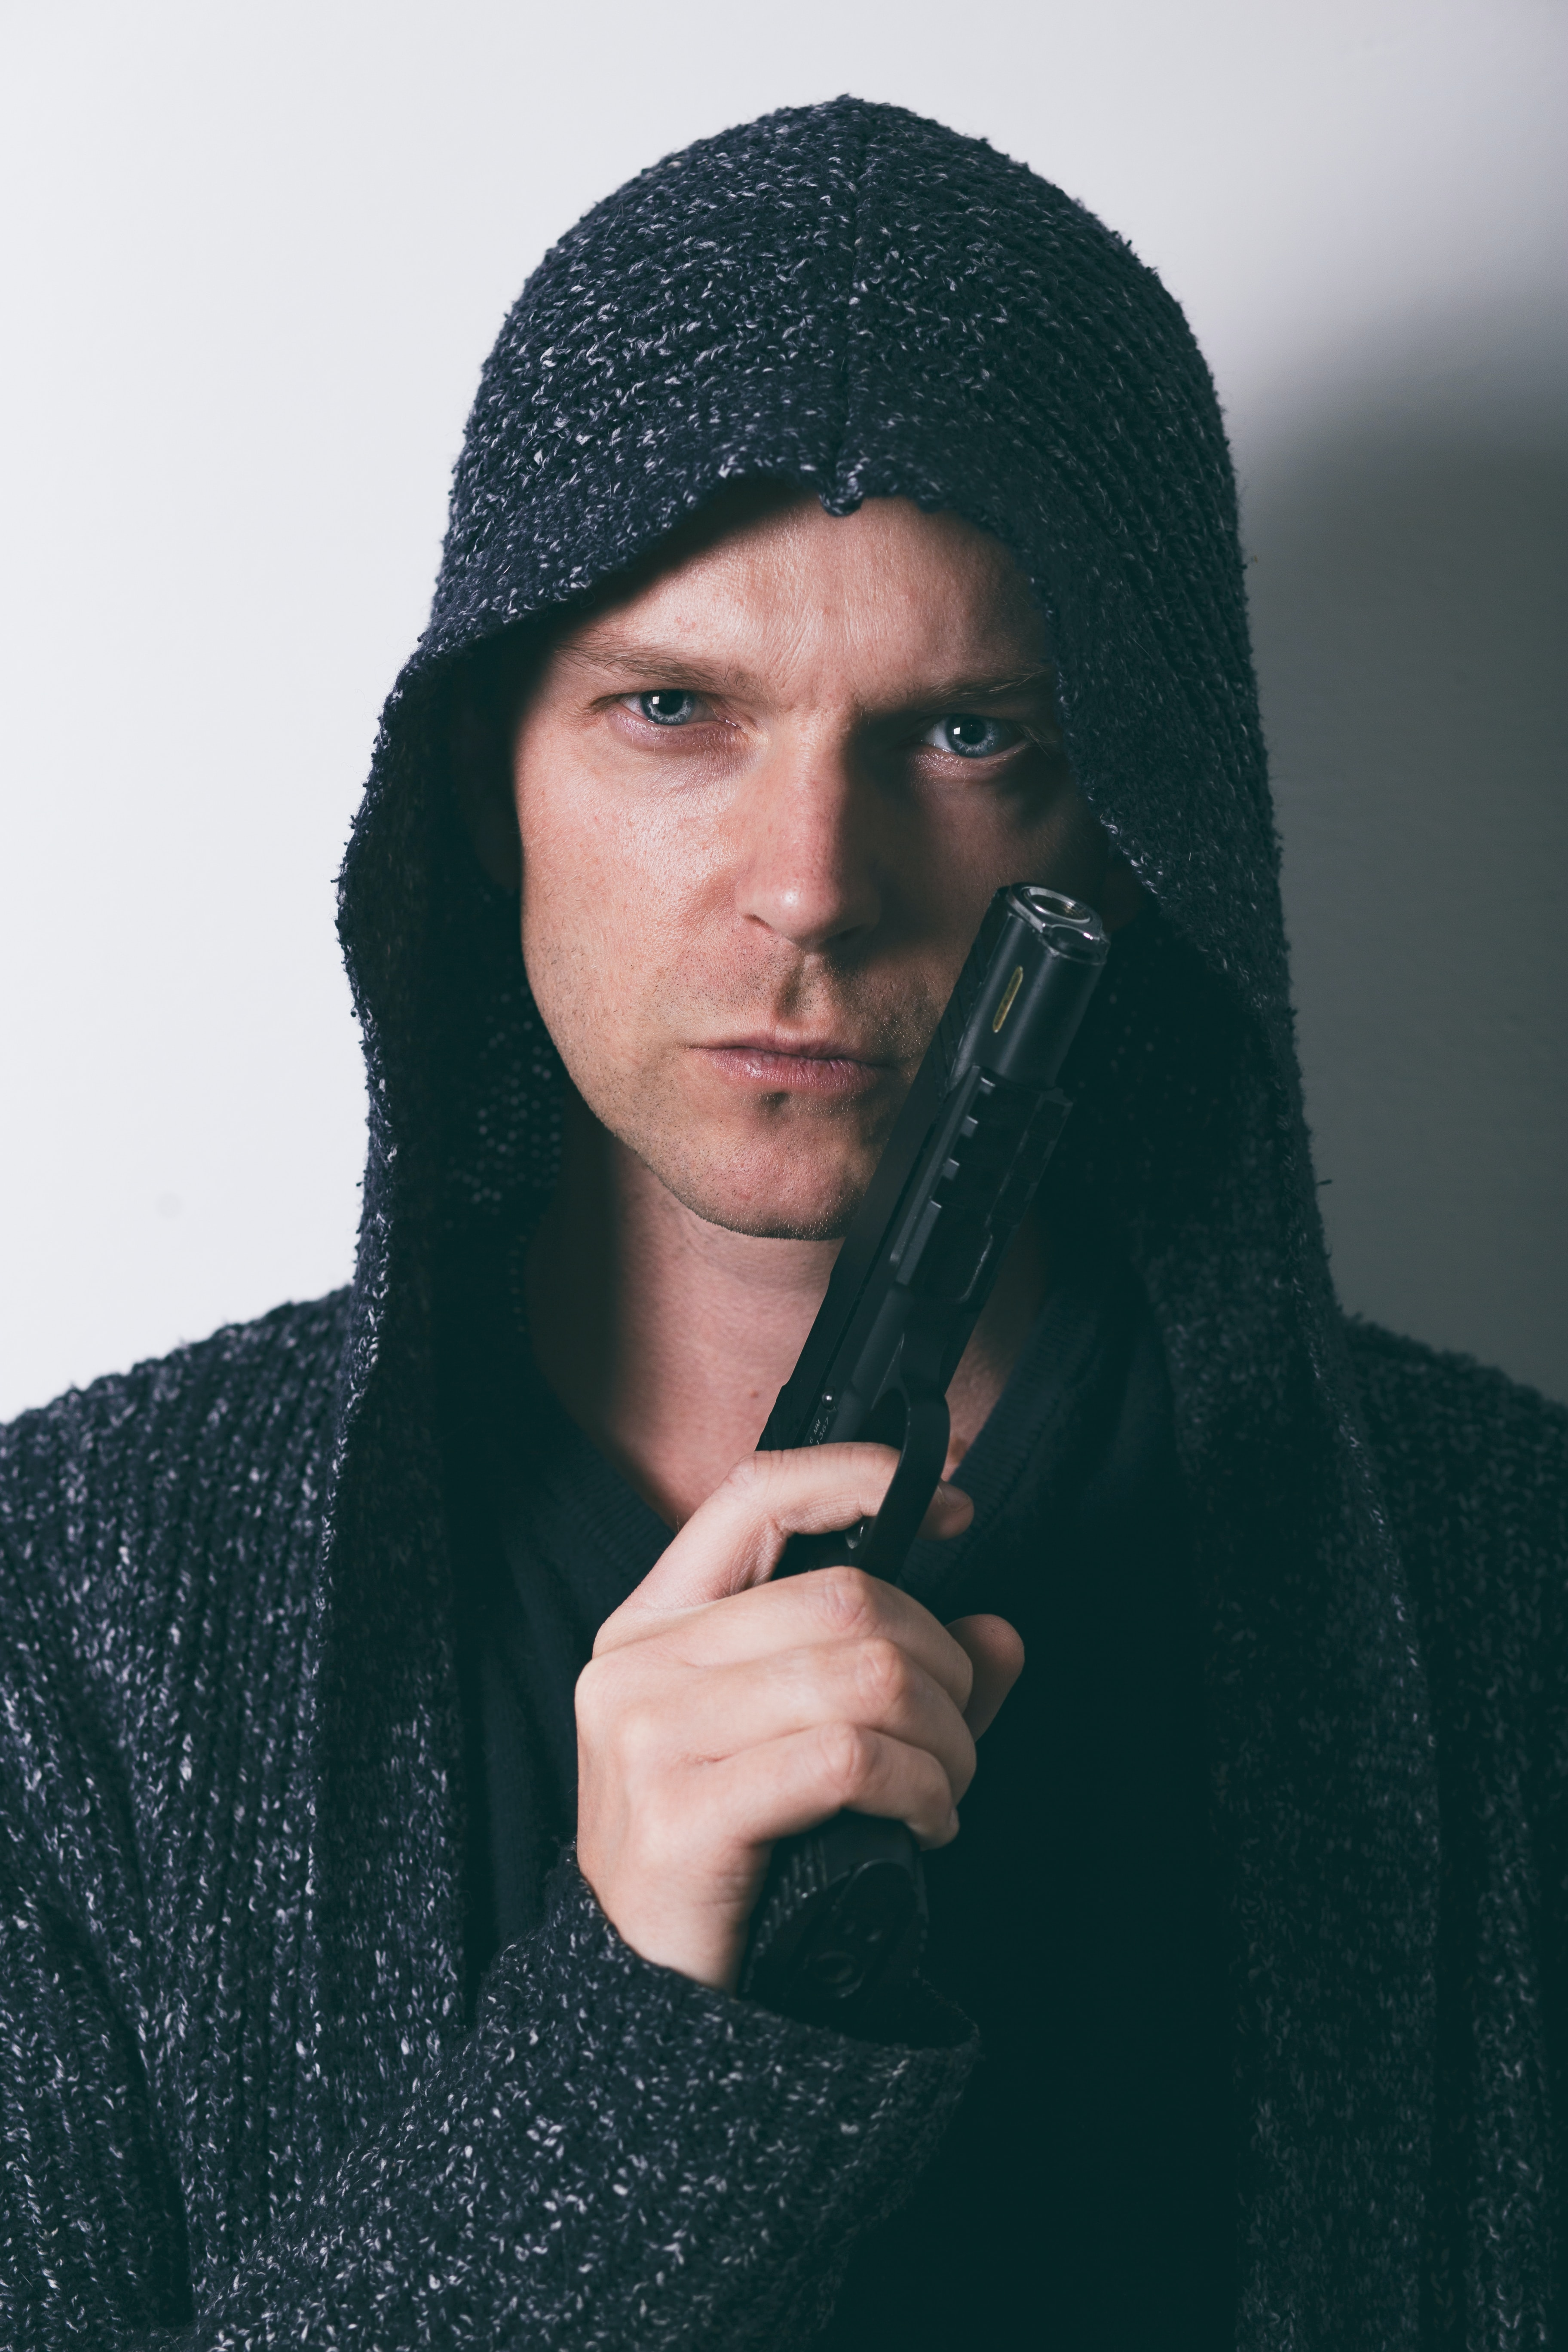gun: (727, 873, 1114, 2023)
person: (9, 104, 1566, 2334)
